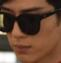without_mask: (2, 2, 61, 63)
